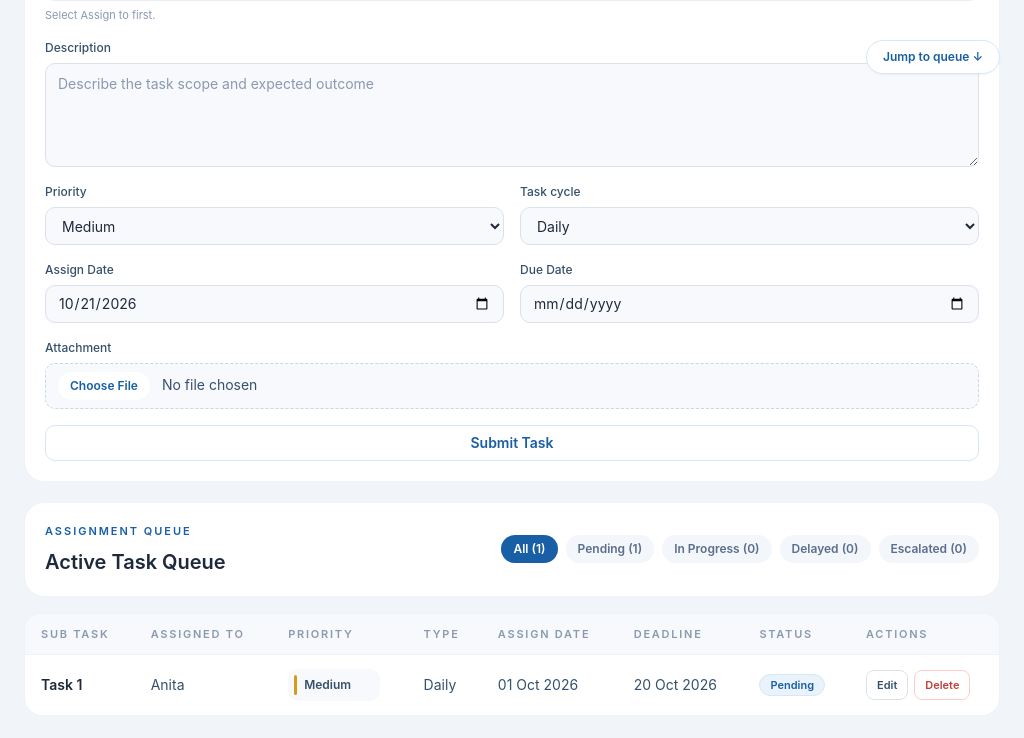
Assignment Queue › a 404 on delete (already gone) removes the stale row
(page scrolled)
Expected: the text "Task 1" is shown, [41,676,82,693]
Click the button titled "Delete task". click: [942, 685]
box: [914,670,970,700]
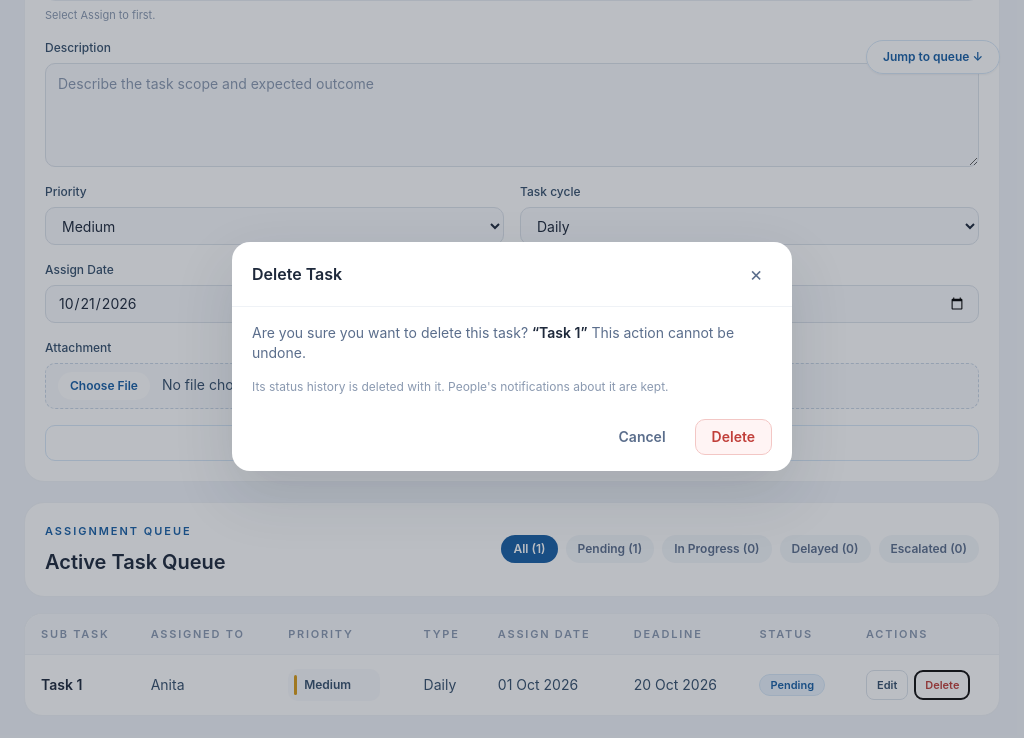
Click the button "Delete". click: [733, 436]
box: [695,418,772,454]
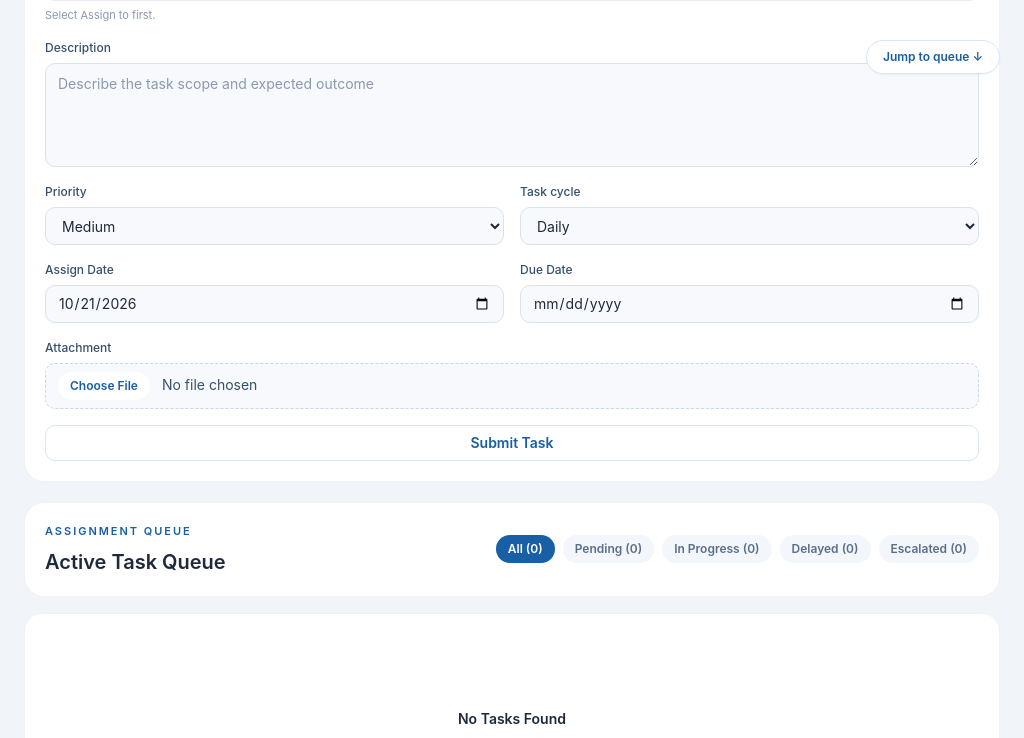
Result: the text "Task 1" is gone
